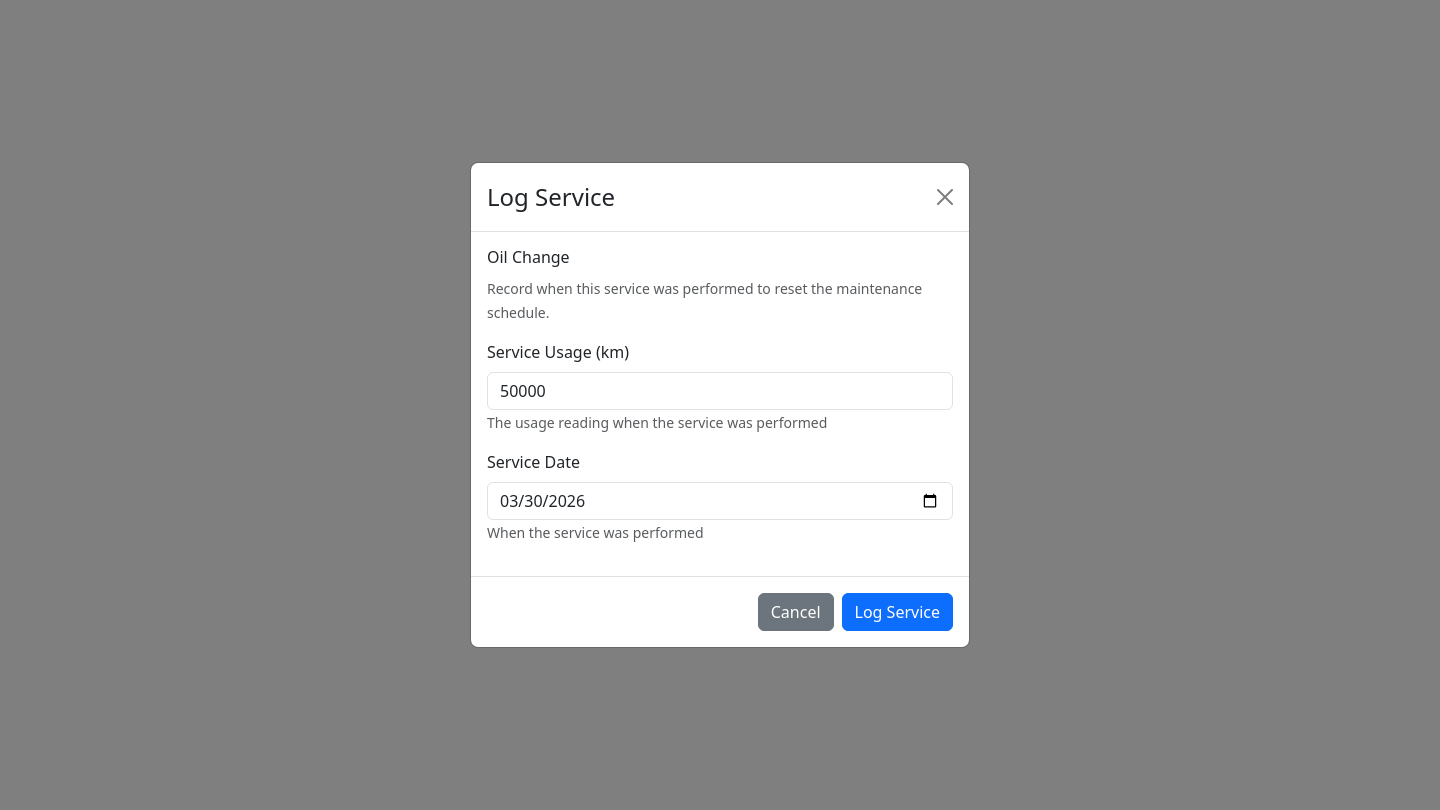
Test: LogServiceModal › should show validation error when both usage and date are missing
This screenshot has width=1440, height=810.
Note: Clear the pre-filled values
Clear the number field with placeholder "Current: 50000 km" at (720, 391), box left=487, top=372, right=953, bottom=410
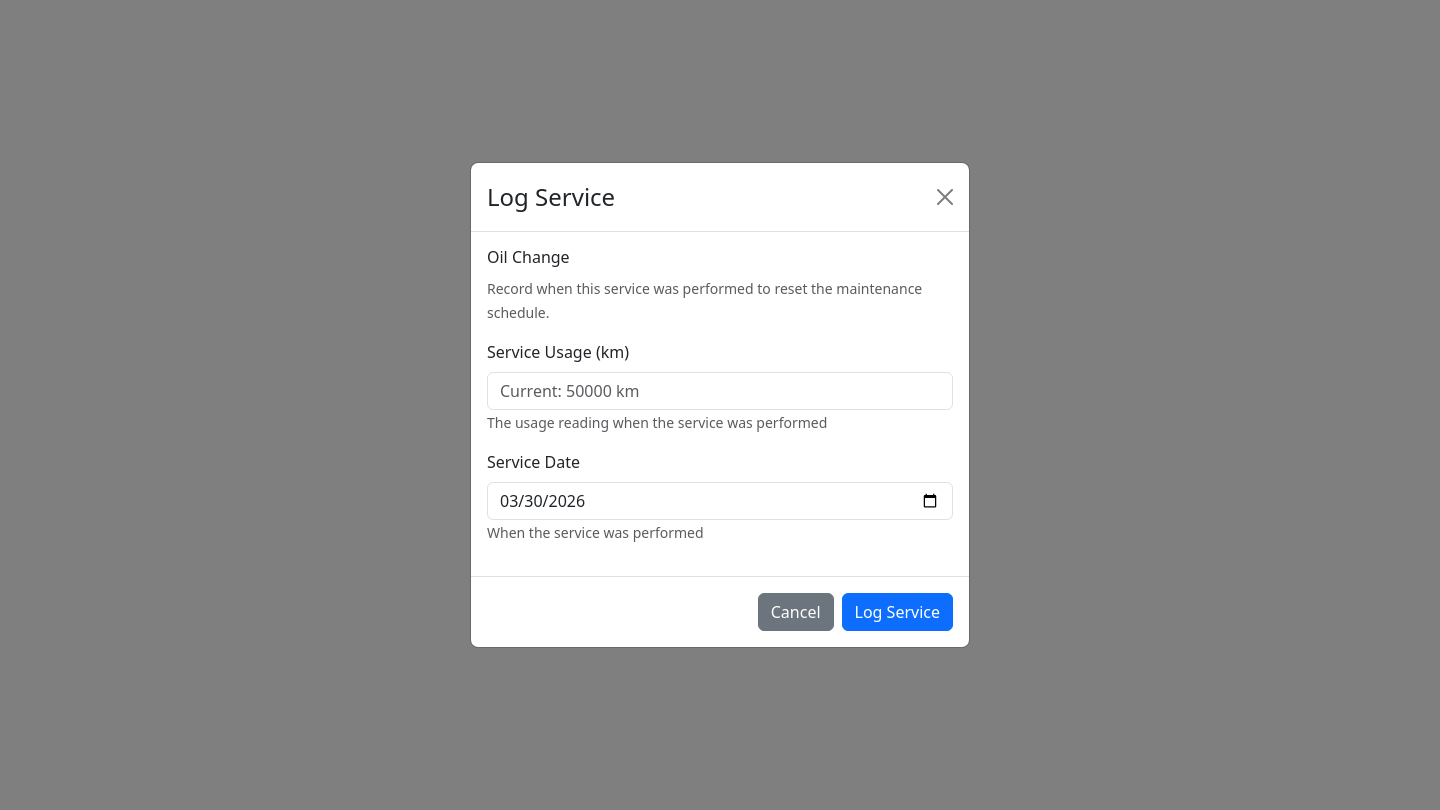
Clear the date field at (720, 501), box left=487, top=482, right=953, bottom=520
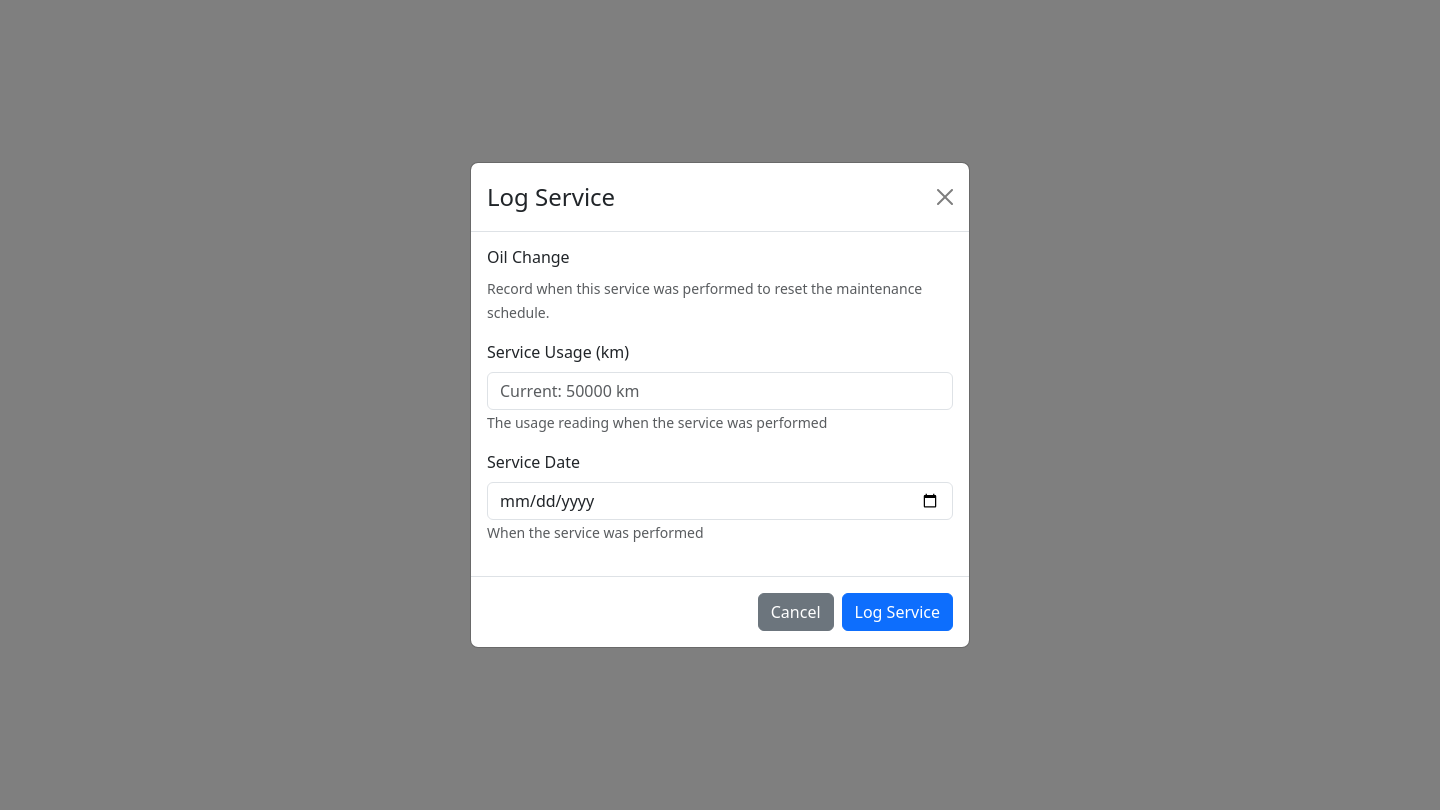
Submit the form, box left=471, top=232, right=969, bottom=647
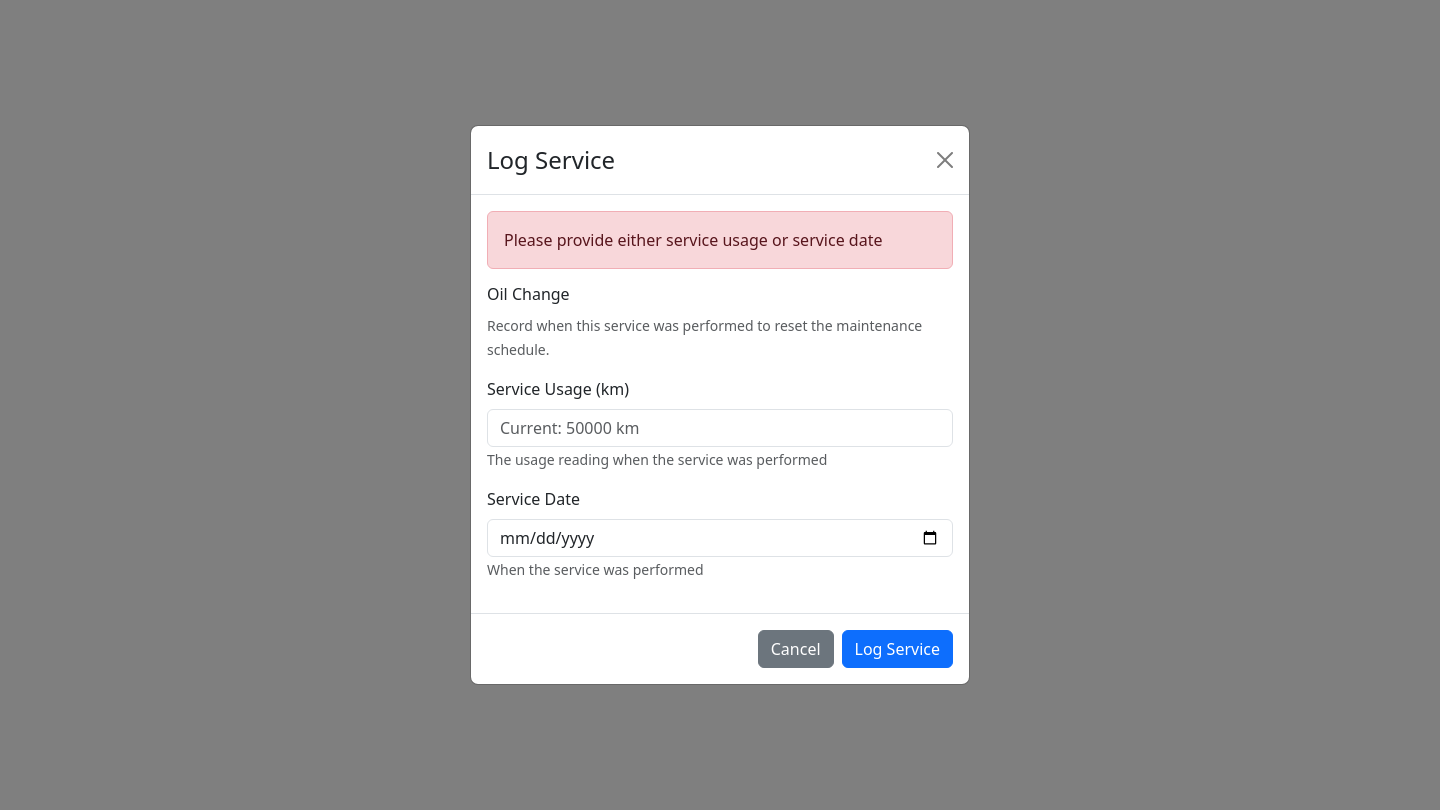
Now the text "Please provide either service usage or service date" is shown, box left=487, top=211, right=953, bottom=269
